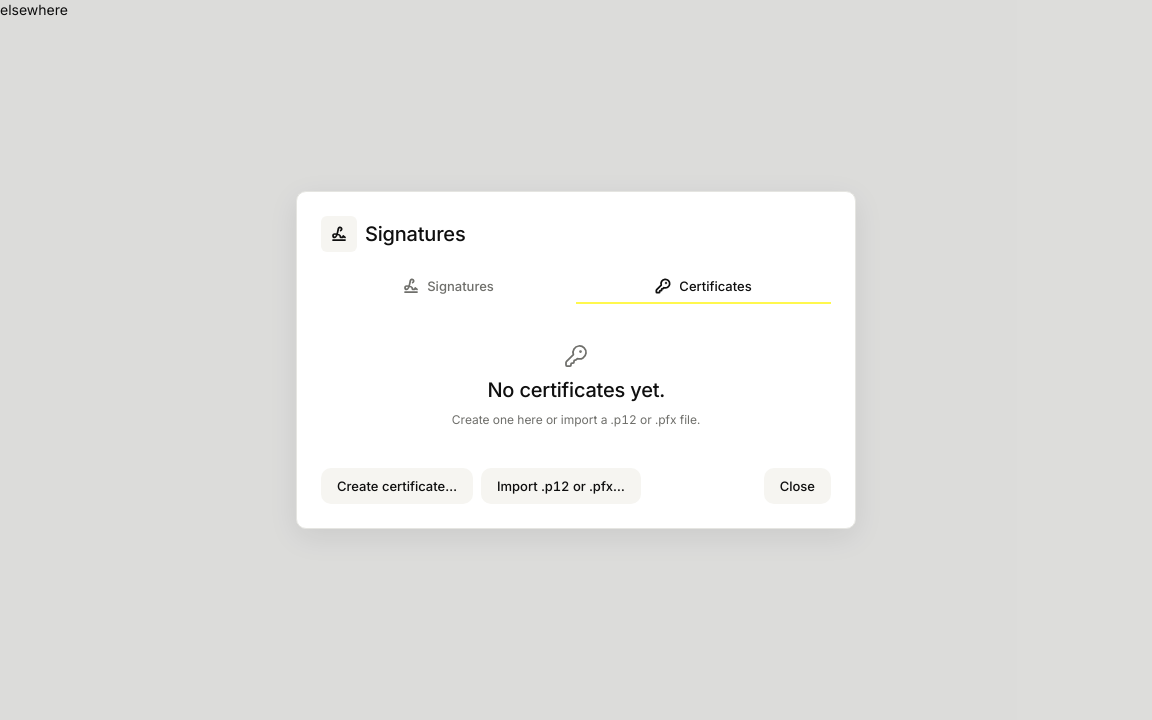
certificate manager › keeps the form and says so when the keychain refuses
Click the button "Create certificate…". click: (397,486)
box: x1=321 y1=468 x2=473 y2=504
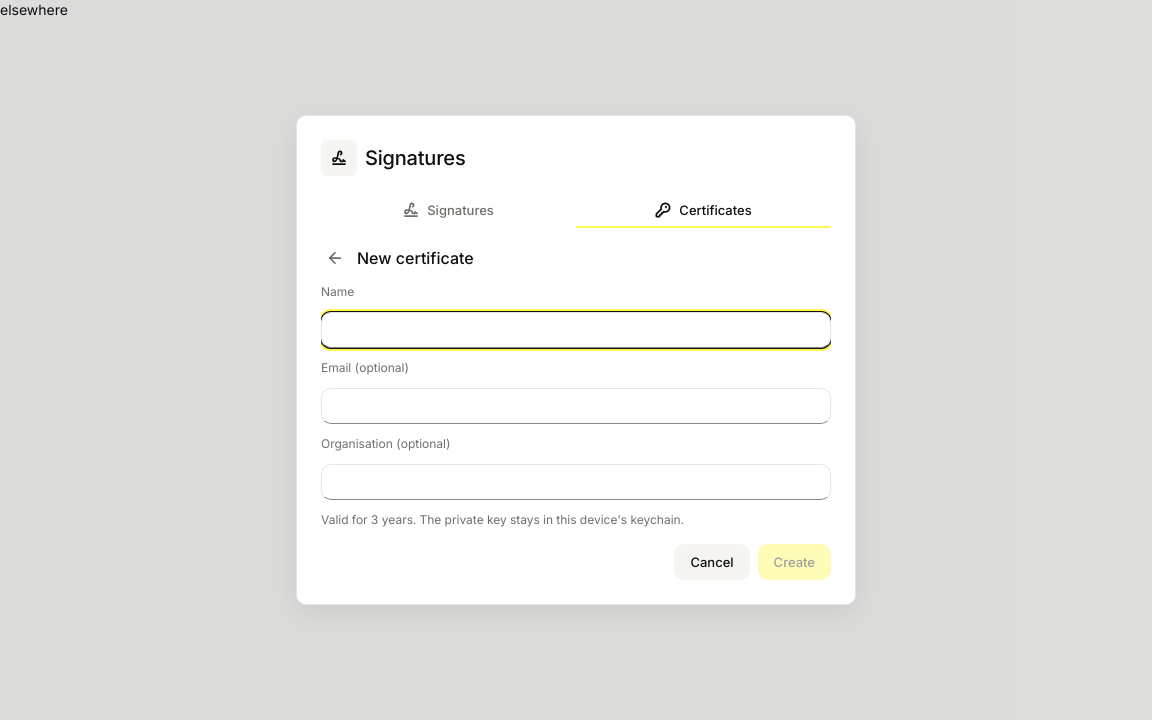
Type "Ada" into the field labelled "Name". click: (576,330)
box: x1=321 y1=312 x2=831 y2=348
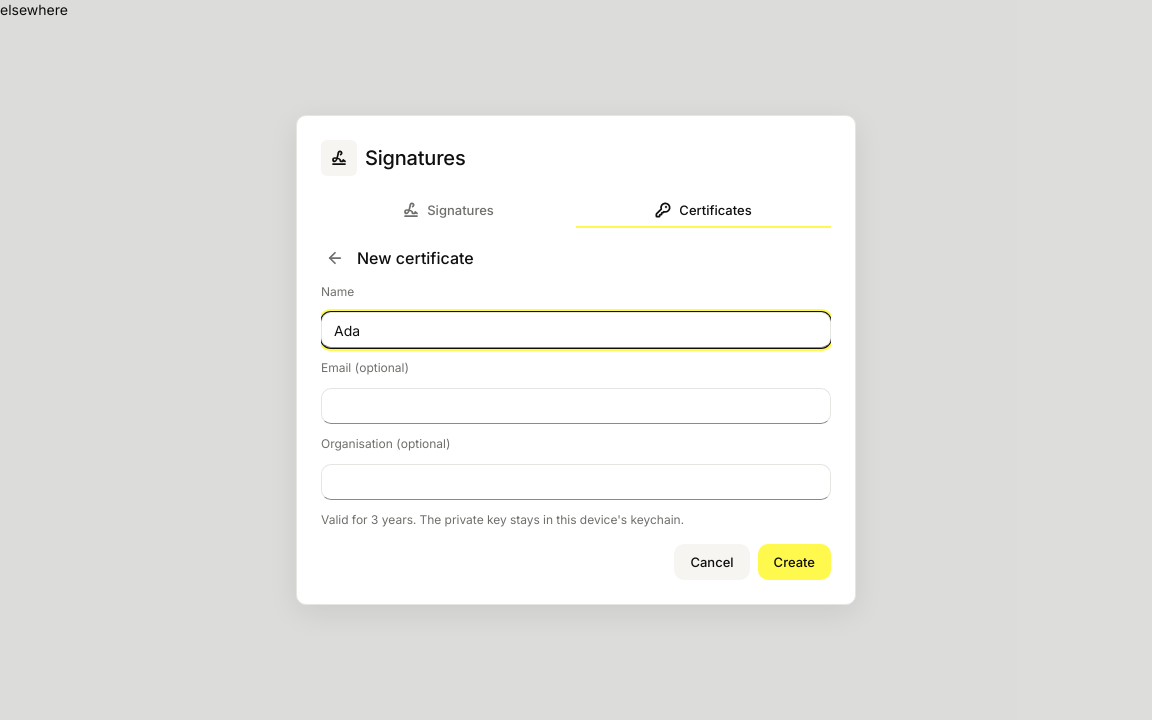
Click the button "Create". click: (794,562)
box: x1=758 y1=544 x2=831 y2=580
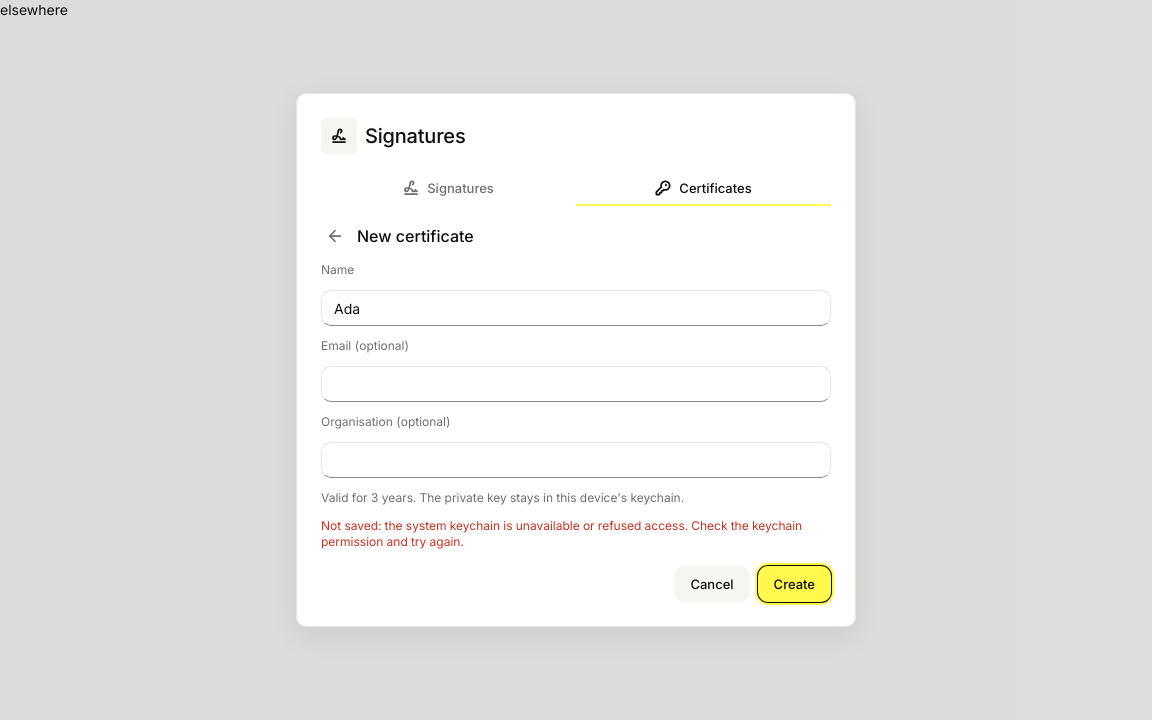
Result: the message shows "keychain" at x1=321 y1=518 x2=802 y2=549
